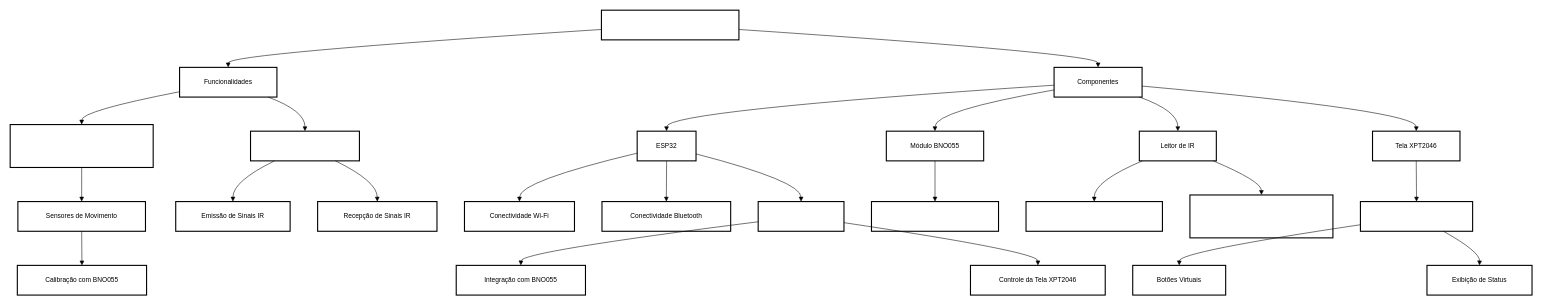
Some shapes in this 1542 by 305 pixel diagram are drawn without their labels. Here are the shapes that lost their labels. From the top down, the box of each, then its label:
(601, 9, 739, 40): Controle Remoto Universal
(9, 124, 153, 168): Controle de Wii com Alta Precisão
(250, 130, 360, 161): Controle Remoto IR
(757, 201, 844, 232): Programação
(871, 201, 999, 232): Detecção de Orientação
(1025, 201, 1163, 232): Decodificação de Sinais IR
(1189, 194, 1333, 238): Armazenamento de Códigos IR
(1360, 201, 1473, 232): Interface de Usuário
